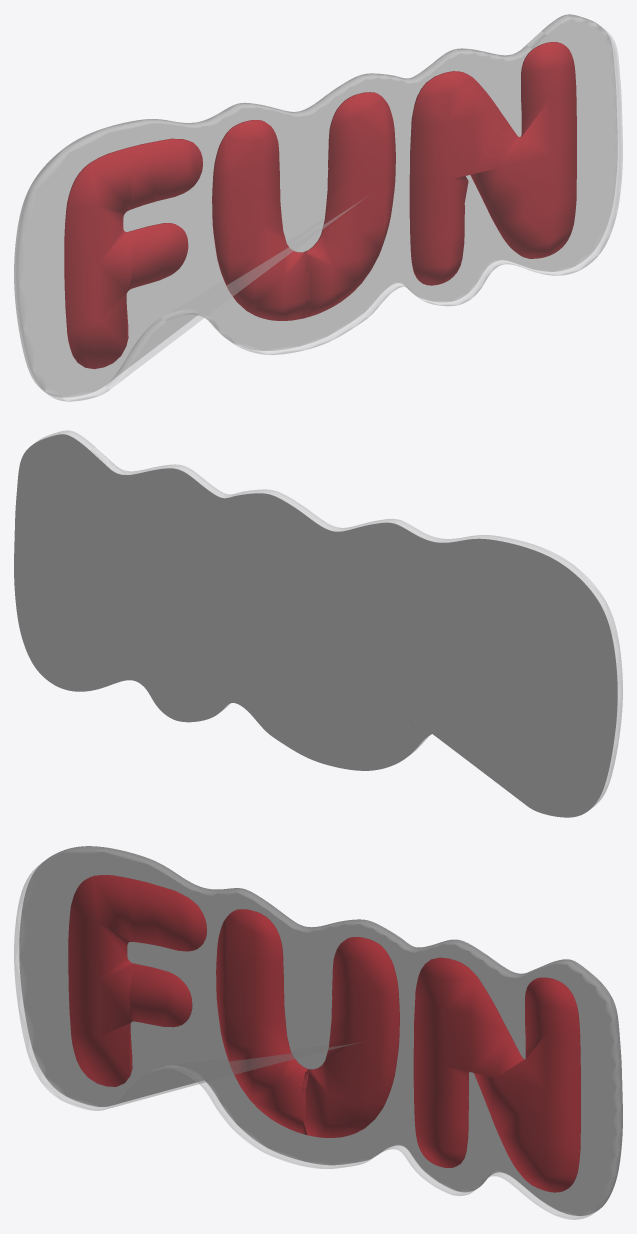
Rendered from FUN.glb.
3 views of the same model, one above another, from view 1: azimuth 30°, elevation 25°; view 2: azimuth 150°, elevation 25°; view 3: azimuth 330°, elevation 25° (orthographic).
Visible parts, largest first — view 1: 円柱.002, 円柱.003, 平面.005, 平面.004, 平面.003; view 2: 円柱.001, 円柱.002; view 3: 円柱.002, 円柱.003, 平面.005, 平面.004, 平面.003.
Boxes of the visible parts, x1=… form: 円柱.002: x1=14, y1=15, x2=622, y2=401; 円柱.003: x1=14, y1=14, x2=617, y2=397; 平面.005: x1=409, y1=42, x2=576, y2=285; 平面.004: x1=212, y1=92, x2=395, y2=320; 平面.003: x1=64, y1=138, x2=202, y2=369; 円柱.001: x1=14, y1=434, x2=617, y2=817; 円柱.002: x1=37, y1=430, x2=622, y2=807; 円柱.002: x1=14, y1=846, x2=622, y2=1219; 円柱.003: x1=19, y1=846, x2=622, y2=1215; 平面.005: x1=413, y1=957, x2=580, y2=1192; 平面.004: x1=216, y1=909, x2=399, y2=1137; 平面.003: x1=68, y1=875, x2=206, y2=1086.
Bounding box in the file's own units: 2.18 × 0.9221 × 0.034.
